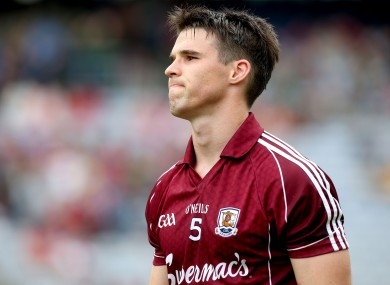player: (149, 10, 353, 270)
